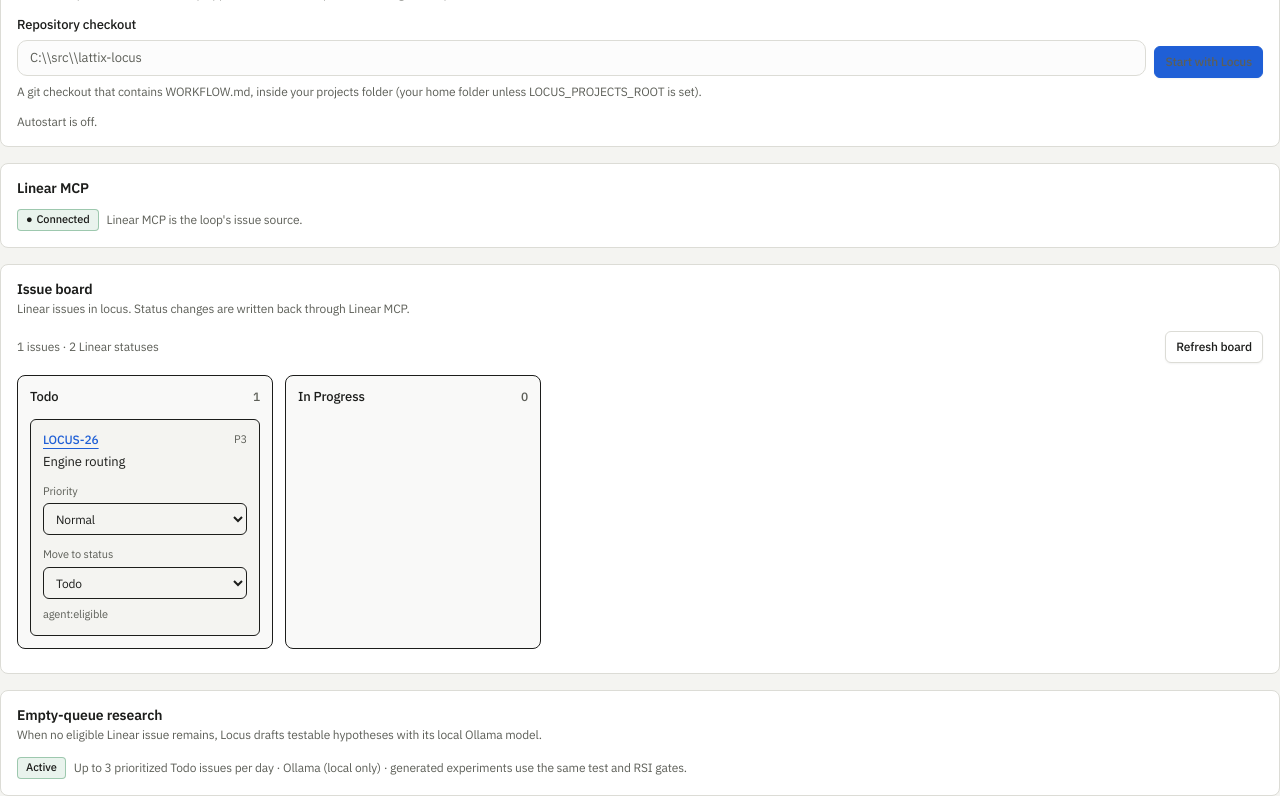
Self-improvement › updates issue priority through the Linear MCP bridge
(page scrolled)
Select "Urgent" in the dropdown named "change locus-26 priority": (145, 519) [43,503,247,535]
(page scrolled)
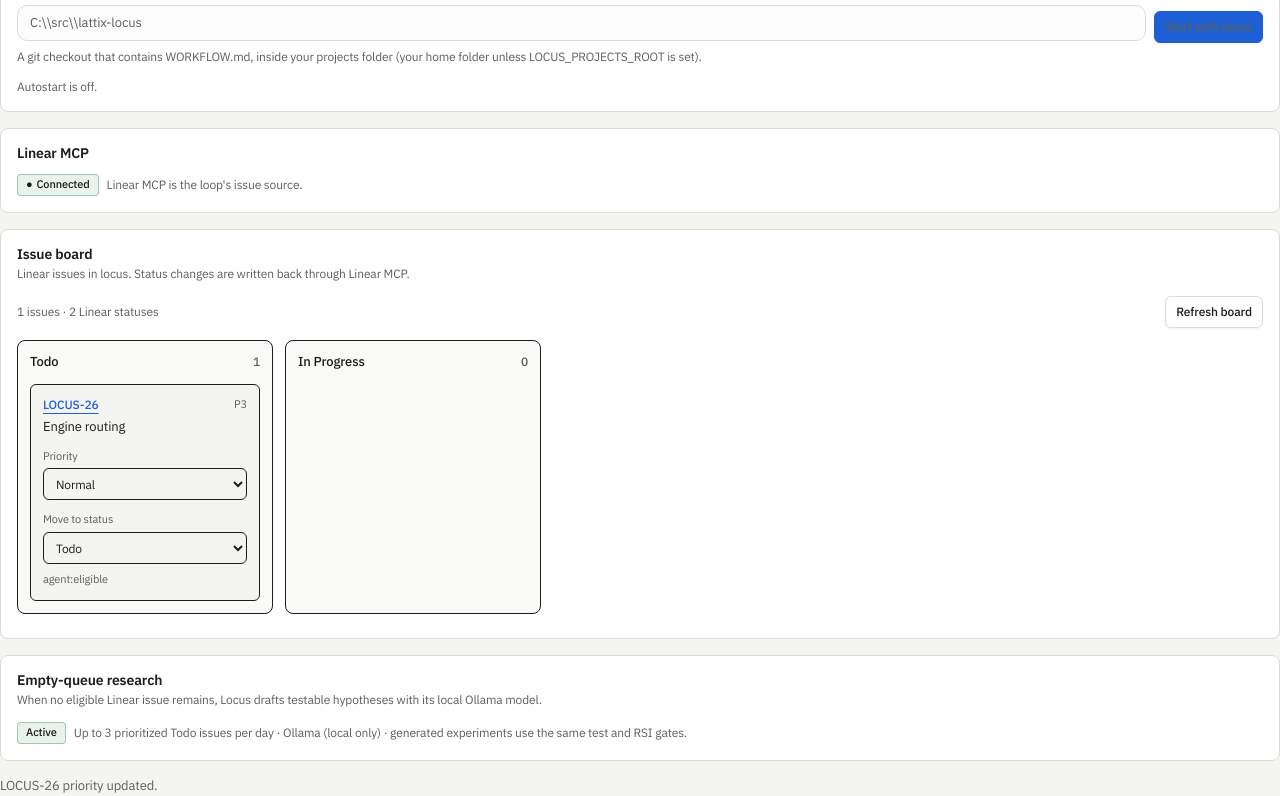
Now the text "LOCUS-26 priority updated." is shown, box [0,777,158,794]
